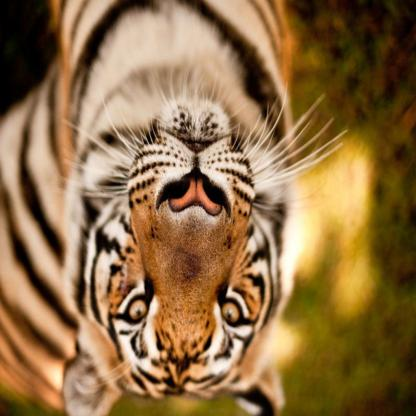tiger: (45, 88, 307, 415)
